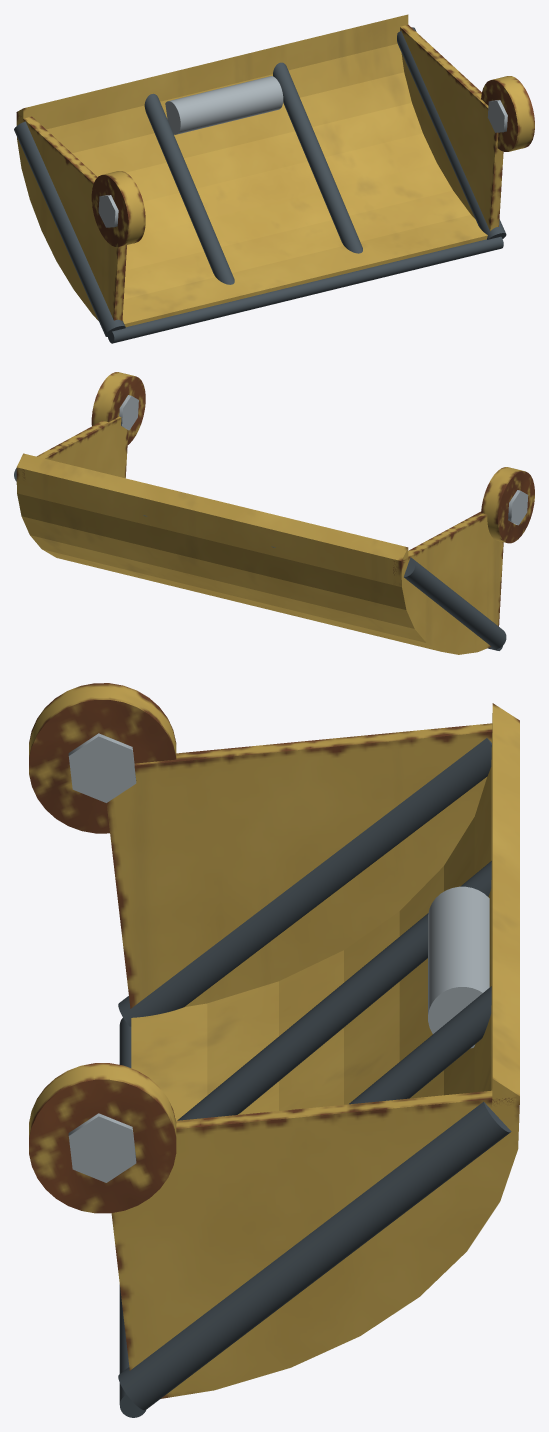
File: grab_jaw_left.glb
3 views of the same model, one above another, from view 1: azimuth 30°, elevation 25°; view 2: azimuth 150°, elevation 25°; view 3: azimuth 270°, elevation 25° (orthographic). The views are drawn at different scales.
Visible parts, largest first — view 1: grab_jaw_left; view 2: grab_jaw_left; view 3: grab_jaw_left.
Boxes of the visible parts, x1=… form: grab_jaw_left: x1=14, y1=14, x2=534, y2=343; grab_jaw_left: x1=14, y1=372, x2=534, y2=654; grab_jaw_left: x1=29, y1=683, x2=519, y2=1417.
Size of the model in its own units: 1.93 by 0.774 by 0.9947.
Materials: 3 (1 with a texture image).
